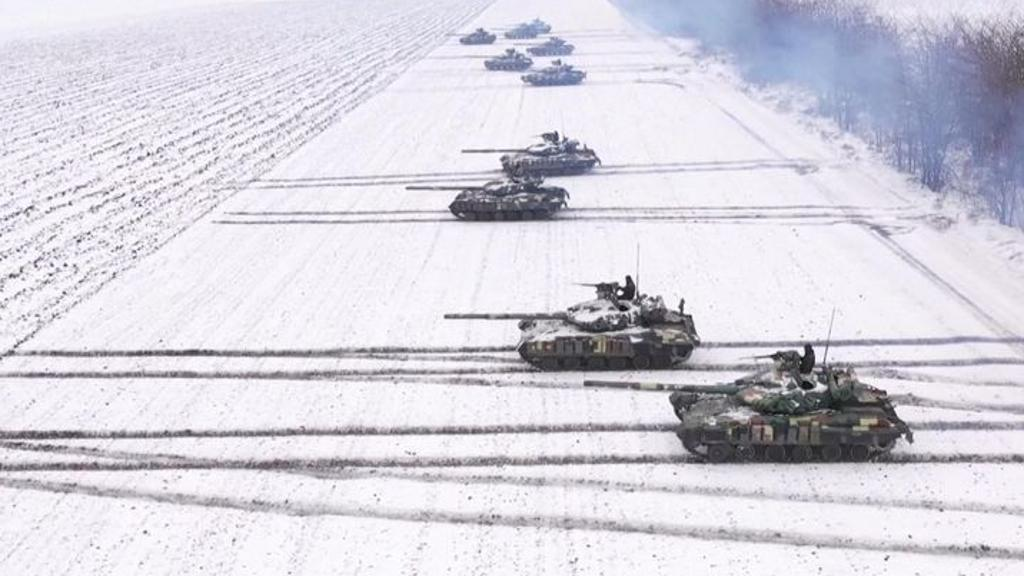TANK: (582, 342, 919, 472), (431, 273, 700, 372), (401, 173, 568, 219), (458, 127, 598, 178), (516, 61, 585, 86), (472, 50, 530, 71), (502, 19, 553, 39), (514, 38, 574, 55), (448, 28, 497, 43)
